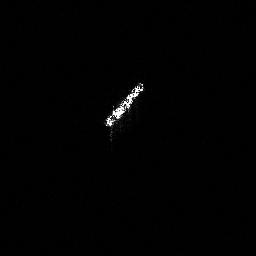ship: (100, 80, 147, 130)
